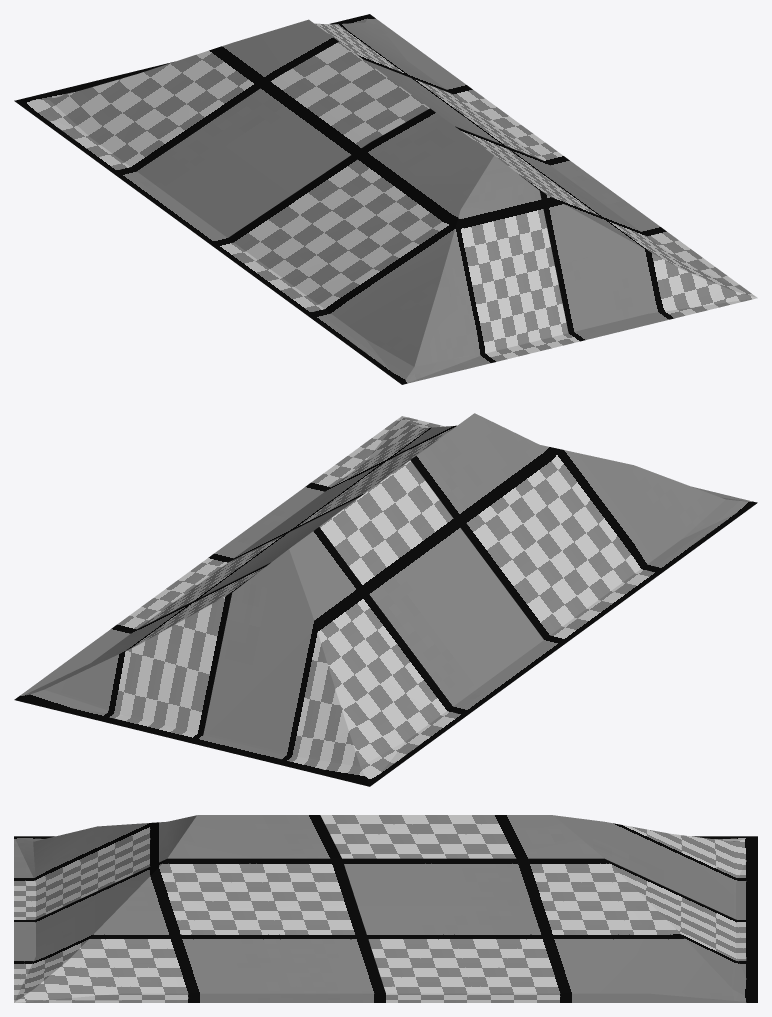
File: roof_6645683.glb
3 views of the same model, one above another, from view 1: azimuth 30°, elevation 25°; view 2: azimuth 150°, elevation 25°; view 3: azimuth 270°, elevation 25° (orthographic). The views are drawn at different scales.
Parts seen in each view (by area): view 1: mesh; view 2: mesh; view 3: mesh.
Boxes of the visible parts, x1,y1,x2,y2 form: mesh: [14, 14, 757, 384]; mesh: [14, 413, 757, 786]; mesh: [14, 815, 757, 1002].
Bounding box in the file's own units: 18 × 5.5 × 34.
Materials: 1 (1 with a texture image).
